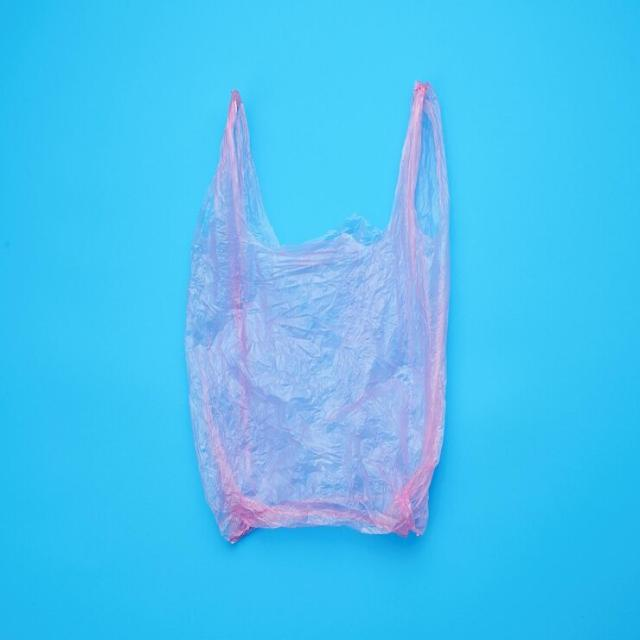plastic_bag: (181, 71, 451, 558)
